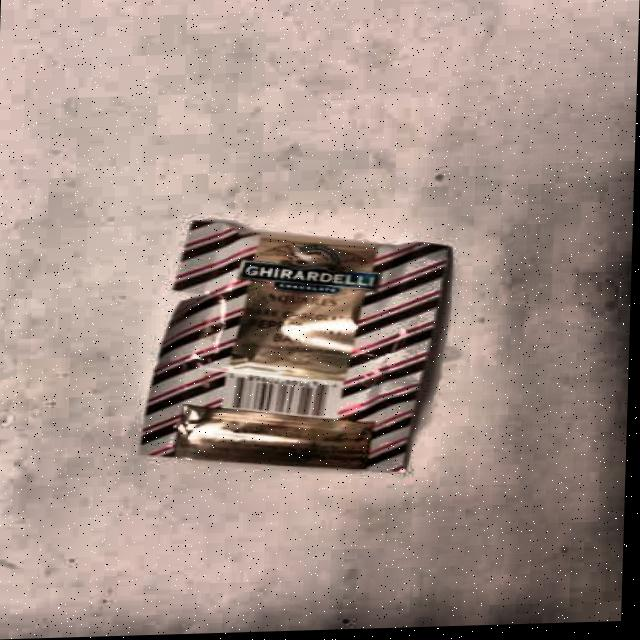plastic: (117, 202, 477, 518)
